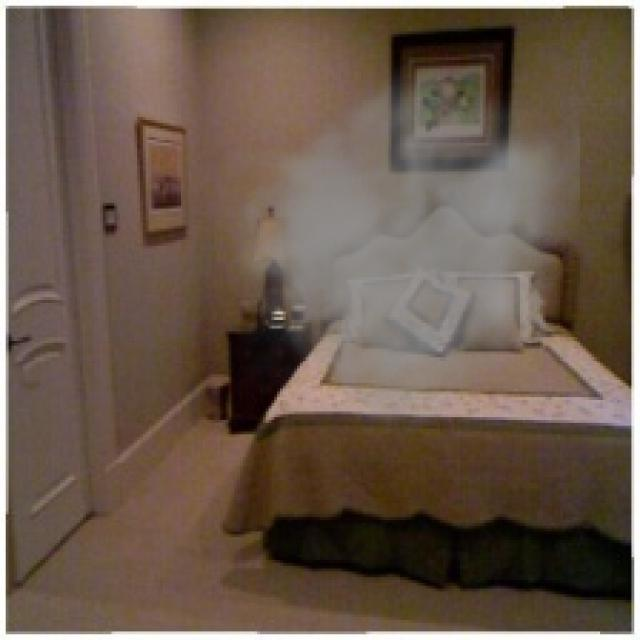smoke: (194, 49, 580, 440)
